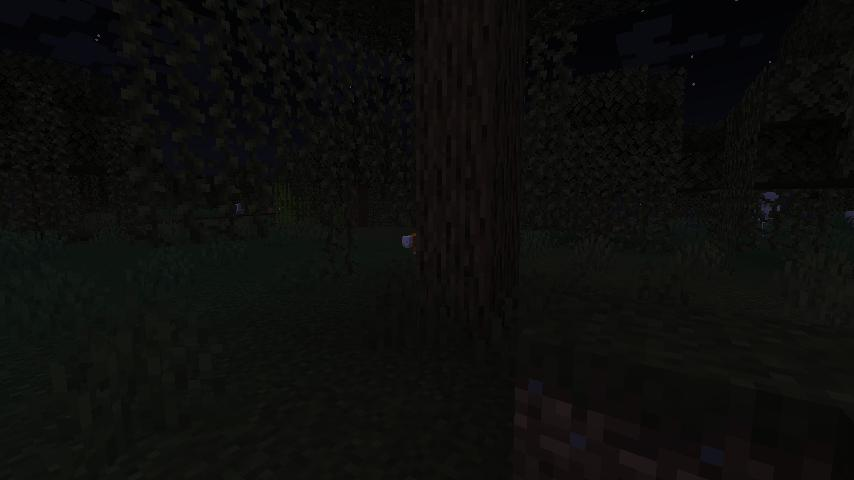fox: (401, 229, 420, 258)
